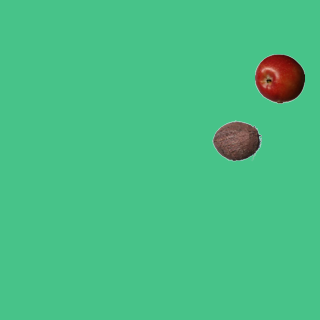Apple Braeburn: (254, 53, 304, 103)
Cocos: (211, 115, 261, 165)
